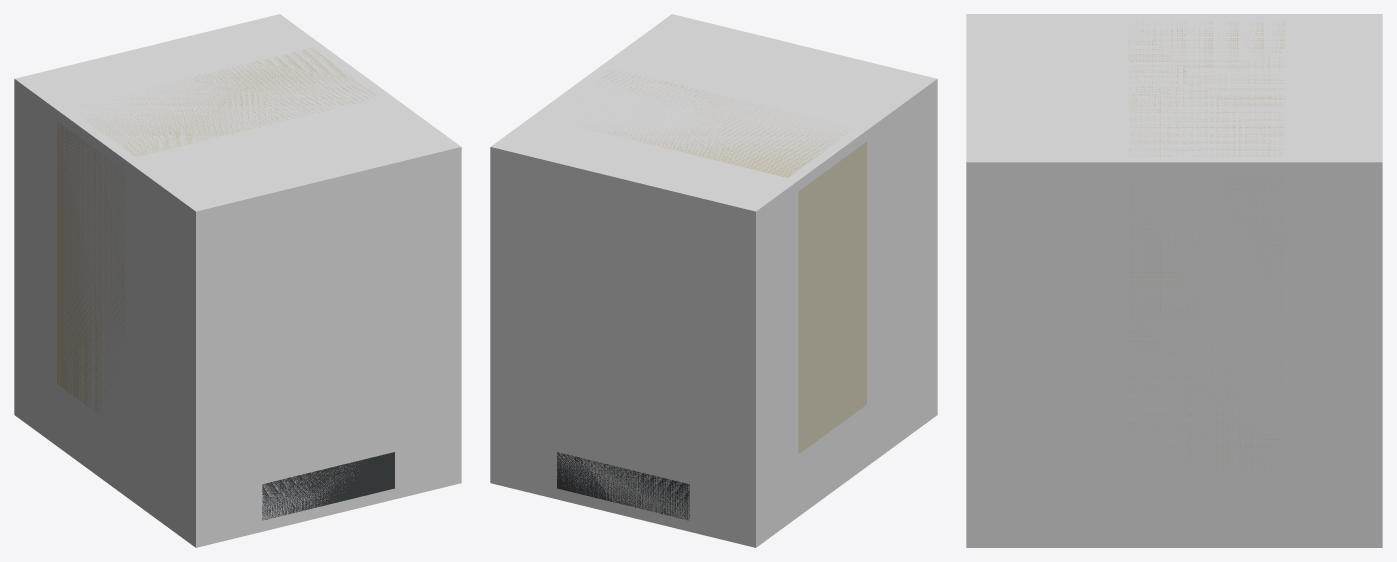
Rendered from rifle_sight_reflex.glb.
The picture shows the model from 3 angles, left to right: view 1: azimuth 30°, elevation 25°; view 2: azimuth 150°, elevation 25°; view 3: azimuth 270°, elevation 25°; orthographic projection. The views are drawn at different scales.
Parts seen in each view (by area): view 1: COL_part, sight; view 2: COL_part, sight; view 3: COL_part, sight.
Part boxes in pixels (box(x1,y1,x2,y2)): COL_part: box(14, 14, 461, 547); sight: box(57, 48, 394, 520); COL_part: box(490, 14, 937, 547); sight: box(557, 69, 866, 520); COL_part: box(966, 14, 1382, 547); sight: box(1128, 20, 1285, 476).
Size of the model in its own units: 0.038 by 0.046 by 0.045.
